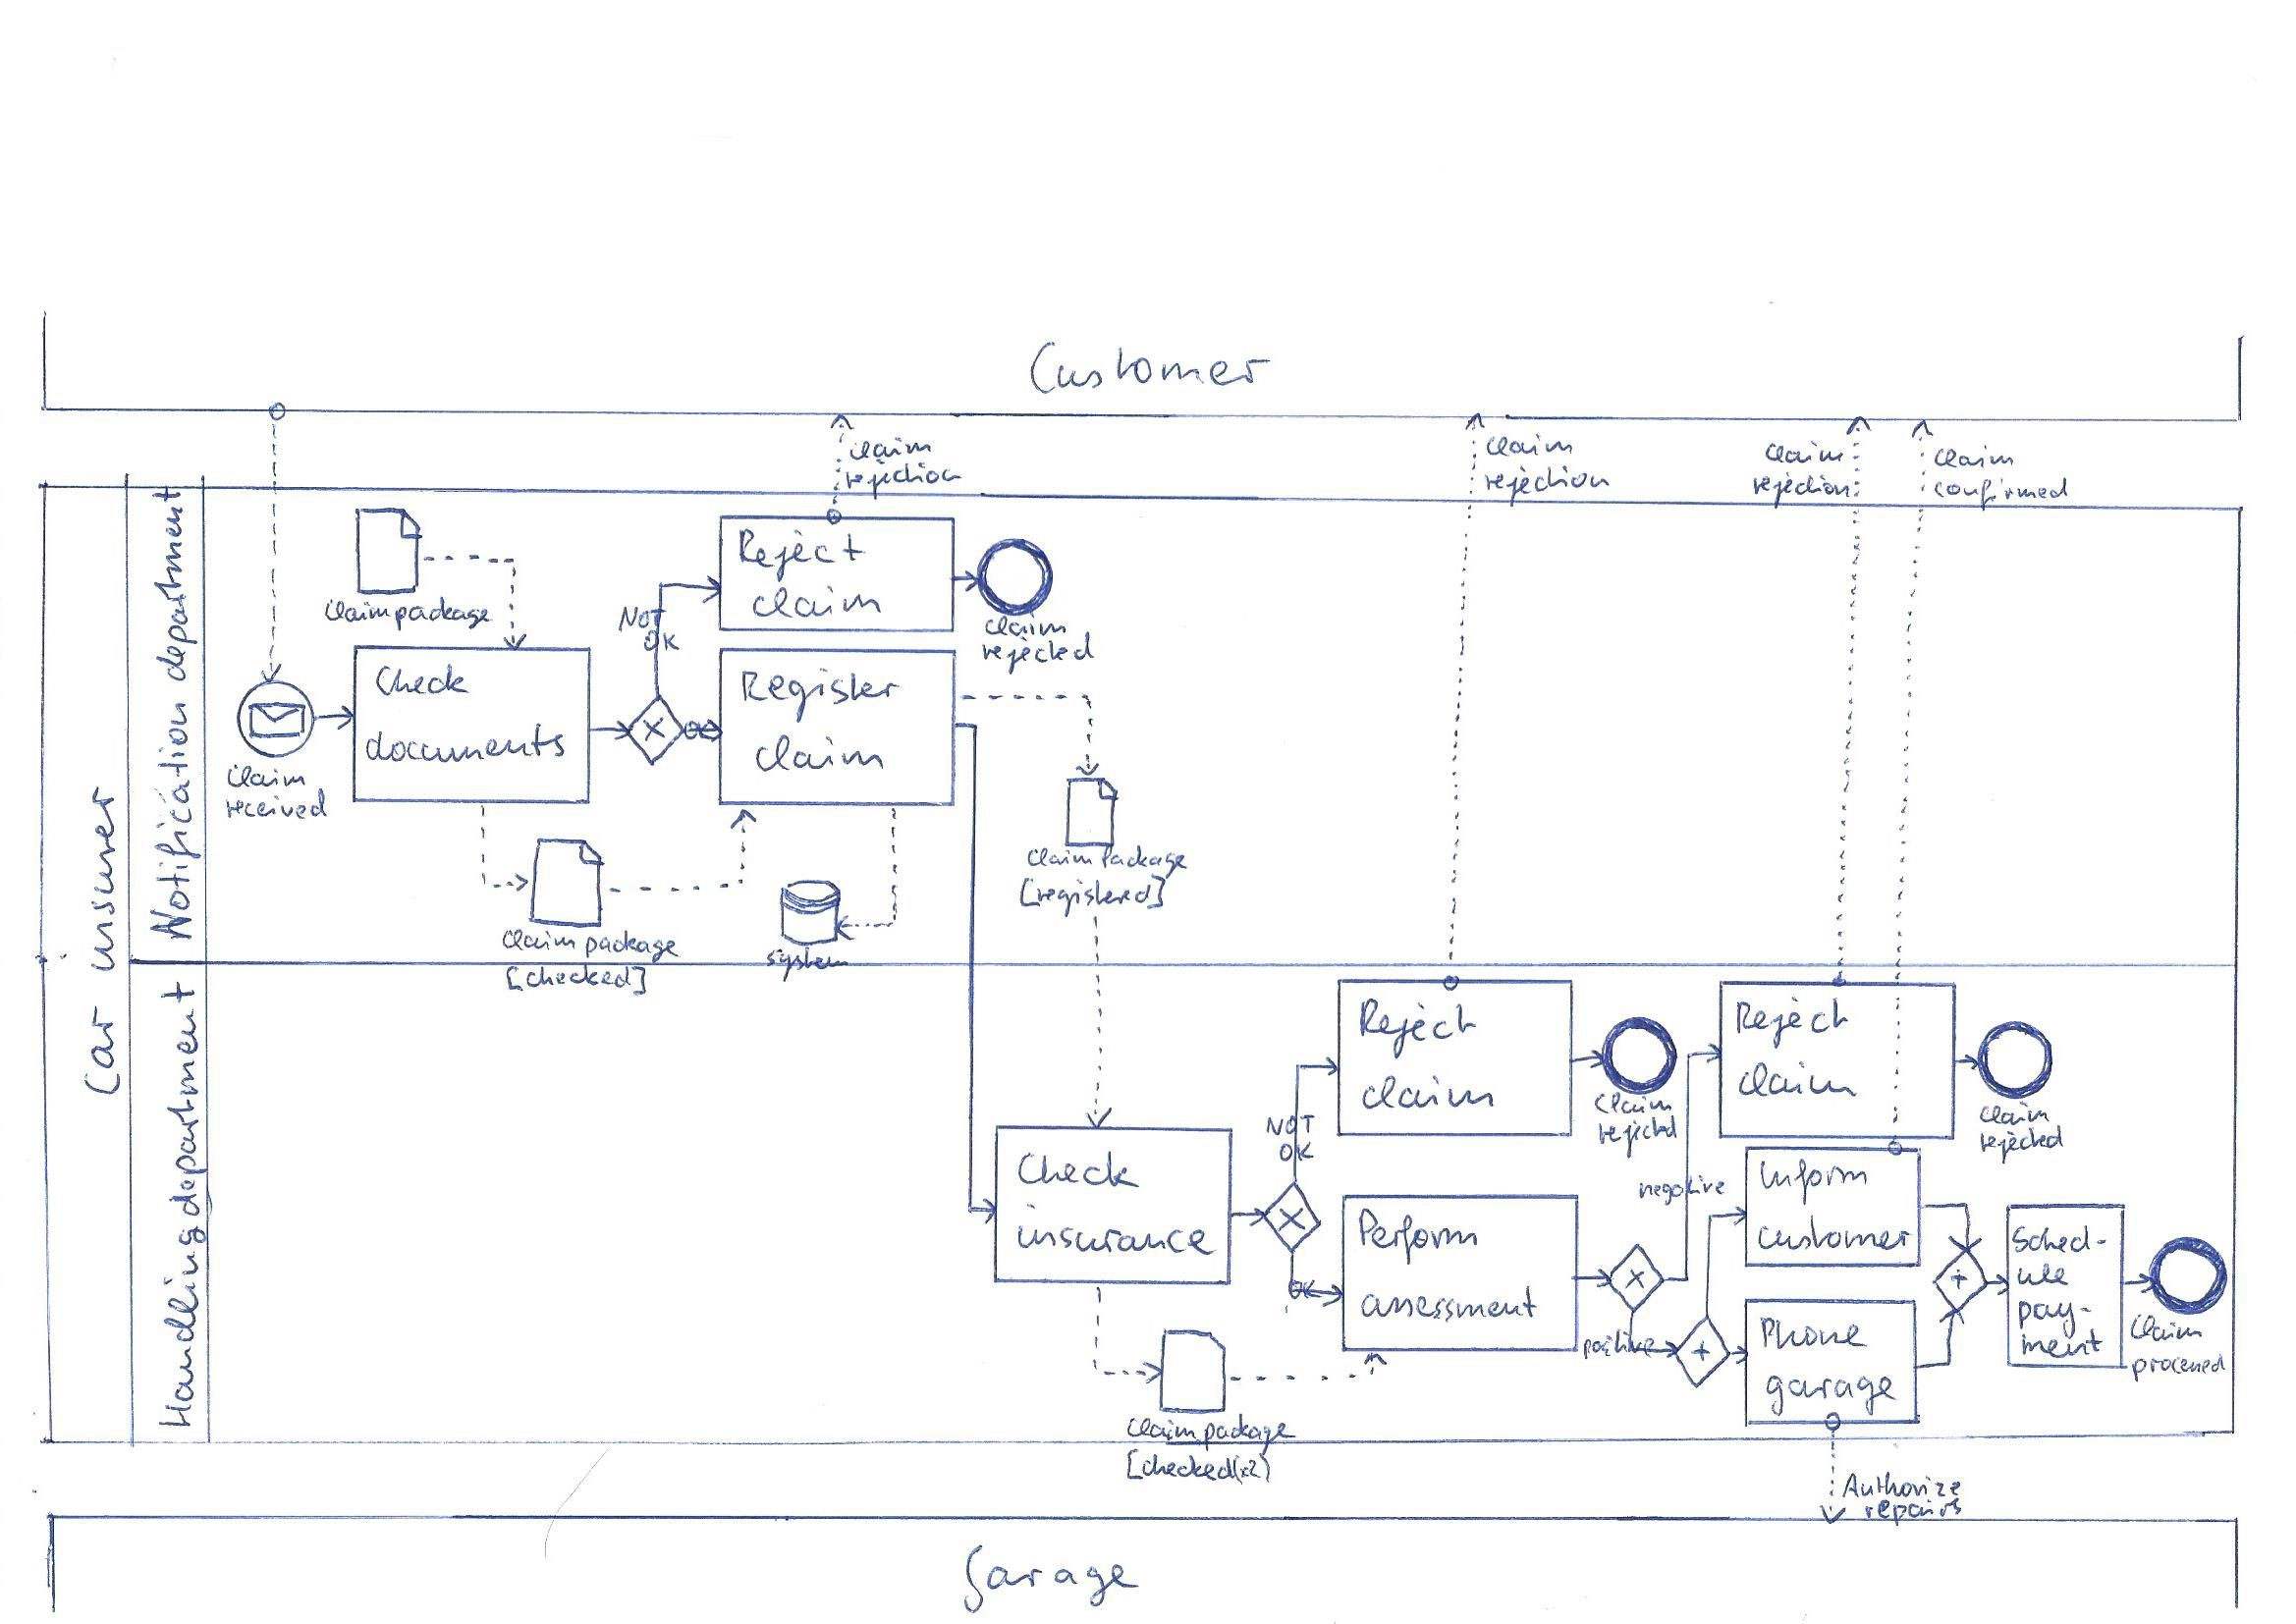(x2): (1227, 1448, 1275, 1489)
Authorize: (1832, 1468, 1965, 1504)
Check: (1009, 1144, 1146, 1195), (367, 661, 475, 701)
Claim: (2124, 1309, 2208, 1348), (1588, 1088, 1677, 1120), (1763, 438, 1846, 468)
Customer: (1020, 334, 1280, 401)
Garage: (955, 1540, 1144, 1619)
Handling: (148, 1220, 213, 1434)
Inform: (1749, 1153, 1874, 1209)
NOT: (1259, 1109, 1320, 1142), (610, 603, 672, 636)
Notification: (141, 694, 206, 949)
OK: (636, 626, 682, 657), (1280, 1274, 1322, 1306), (1271, 1141, 1319, 1165), (682, 717, 712, 747)
Package: (1094, 840, 1192, 886)
Perform: (1352, 1204, 1484, 1271)
Phone: (1751, 1311, 1874, 1355)
Register: (733, 663, 907, 729)
Reject: (1352, 993, 1484, 1067), (728, 524, 870, 587), (1728, 993, 1853, 1053)
[checked: (1118, 1445, 1238, 1485)
[checked]: (499, 961, 650, 1000)
[registered]: (1011, 870, 1173, 923)
assessment: (1354, 1280, 1544, 1327)
car: (74, 1000, 128, 1102)
claim: (744, 729, 890, 777), (1354, 1069, 1498, 1116), (1730, 1056, 1862, 1106), (742, 580, 888, 624), (977, 606, 1074, 643), (220, 759, 311, 794), (494, 923, 582, 958), (842, 432, 937, 464), (1120, 1413, 1202, 1446), (1929, 443, 2018, 473), (316, 596, 394, 627), (1974, 1098, 2052, 1128), (1018, 844, 1097, 872)
clouum: (1479, 432, 1575, 459)
confirmed: (1929, 473, 2073, 517)
customer: (1753, 1211, 1915, 1258)
department: (149, 975, 211, 1225), (144, 480, 202, 687)
documents: (359, 719, 571, 773)
garage: (1756, 1369, 1904, 1418)
insurance: (1007, 1199, 1222, 1264)
insurer: (54, 780, 123, 981)
ment: (2013, 1325, 2110, 1362)
negative: (1631, 1171, 1732, 1209)
package: (1197, 1410, 1301, 1461), (389, 591, 498, 636), (578, 924, 684, 968)
pay-: (2011, 1295, 2097, 1343)
positive: (1577, 1323, 1661, 1366)
processed: (2124, 1350, 2227, 1387)
received: (216, 784, 332, 824)
rejected: (974, 627, 1099, 680), (1973, 1120, 2067, 1169), (1591, 1111, 1681, 1162)
rejection: (1479, 462, 1614, 510), (840, 455, 967, 504), (1746, 468, 1855, 513)
repairs: (1856, 1494, 1964, 1531)
sched-: (2006, 1220, 2110, 1260)
system: (759, 942, 854, 988)
ule: (2011, 1258, 2074, 1294)
